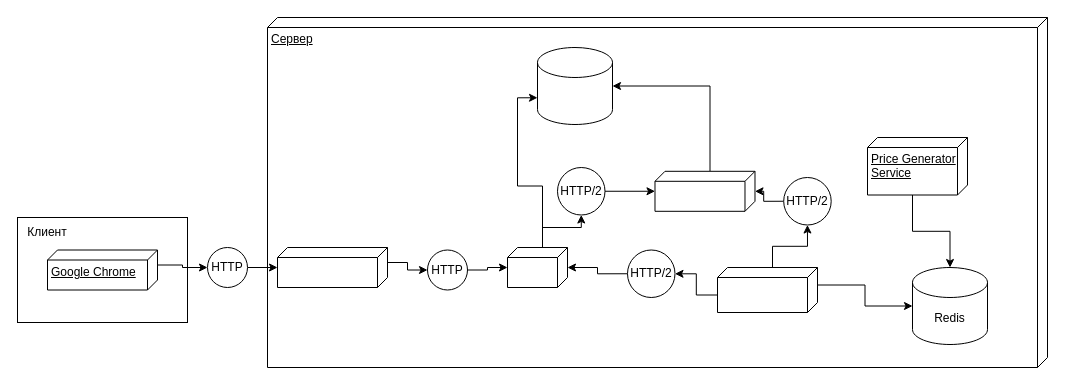
Image size: 1065x385. Some labels were removed from this diagram. Here are the shapes that lost their labels. From the top down, the centre of each, then its label:
At (574,85): "PostgreSQL".
At (704,190): "Position Service".
At (332,267): "Веб-приложение".
At (537,267): "API".
At (767,289): "Price Sender Service".
